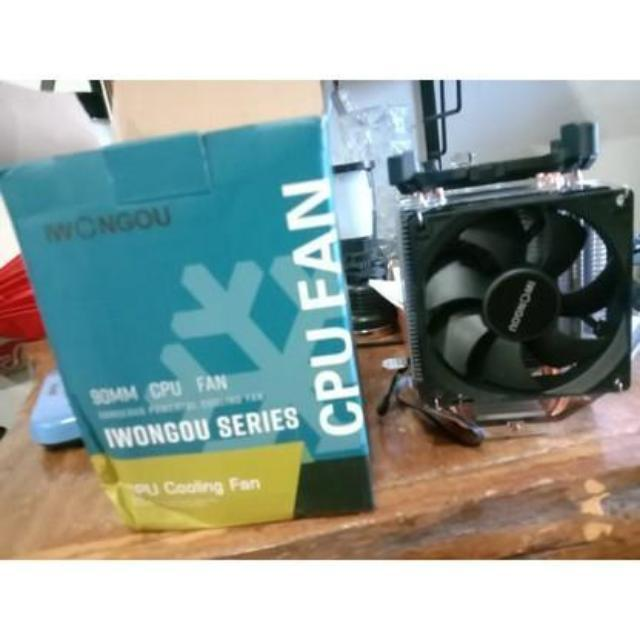CPU_Fan: (389, 177, 640, 443)
